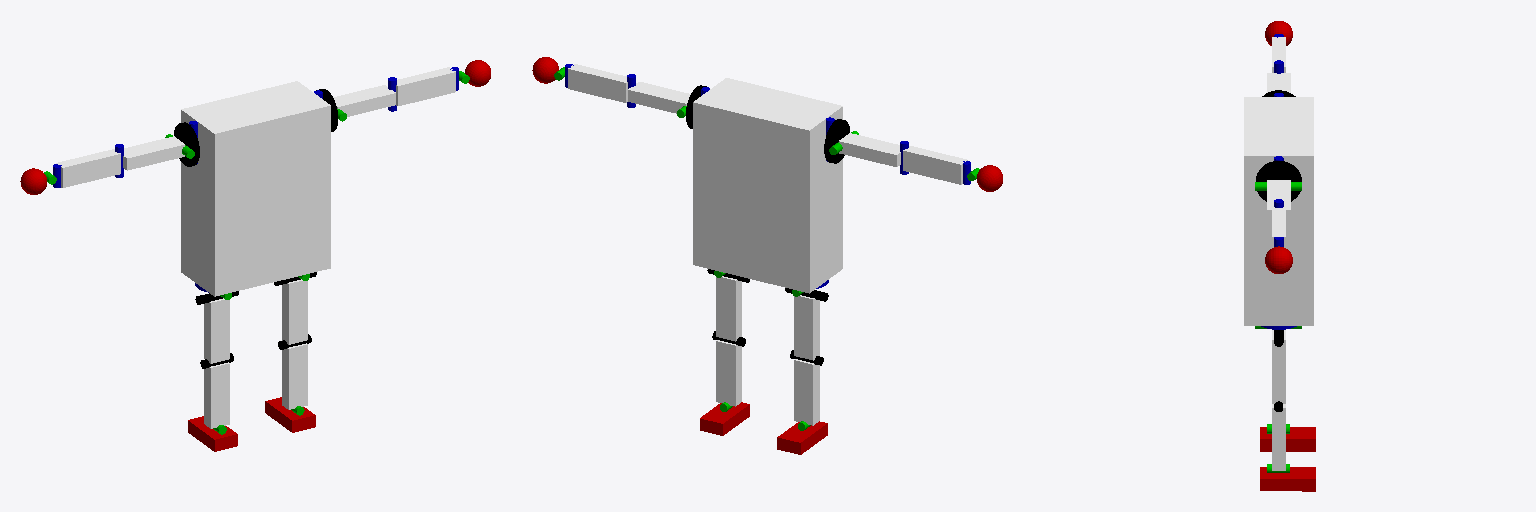
--- What the picture shows (computed from the rendered views, not written in the file) ---
Views: 3 orthographic renders of the robot side by side, from view 1: azimuth 30°, elevation 25°; view 2: azimuth 150°, elevation 25°; view 3: azimuth 270°, elevation 25°.
Model Custom_Upper_Body with 39 links and 38 joints (22 revolute, 16 fixed), rooted at base, posed every joint at zero.
Visible links, largest first — view 1: base, l_forearm, r_lower_leg, l_lower_leg, r_forearm, r_upper_leg, l_upper_leg, l_upper_arm, r_upper_arm, r_foot, l_foot, l_shoulder_roll (+2 smaller); view 2: base, l_forearm, r_lower_leg, l_lower_leg, r_forearm, l_upper_leg, r_upper_leg, l_upper_arm, r_upper_arm, l_foot, r_foot, l_shoulder_roll (+2 smaller); view 3: base, r_foot, l_foot, r_lower_leg, r_shoulder_roll, r_upper_leg, r_upper_arm, r_hand.
Link boxes in pixels (bbox=[...]): base: bbox=[181, 81, 330, 296]; l_forearm: bbox=[56, 149, 120, 187]; r_lower_leg: bbox=[282, 343, 307, 409]; l_lower_leg: bbox=[204, 362, 229, 428]; r_forearm: bbox=[396, 67, 455, 105]; r_upper_leg: bbox=[282, 279, 307, 344]; l_upper_leg: bbox=[204, 298, 229, 363]; l_upper_arm: bbox=[123, 136, 184, 170]; r_upper_arm: bbox=[333, 85, 395, 116]; r_foot: bbox=[265, 397, 315, 432]; l_foot: bbox=[188, 416, 237, 451]; l_shoulder_roll: bbox=[174, 122, 199, 166]; base: bbox=[693, 78, 842, 293]; l_forearm: bbox=[903, 146, 967, 184]; r_lower_leg: bbox=[716, 340, 741, 406]; l_lower_leg: bbox=[794, 359, 819, 425]; r_forearm: bbox=[568, 64, 627, 102]; l_upper_leg: bbox=[794, 295, 819, 360]; r_upper_leg: bbox=[716, 276, 741, 341]; l_upper_arm: bbox=[839, 133, 900, 166]; r_upper_arm: bbox=[628, 82, 690, 113]; l_foot: bbox=[777, 421, 827, 454]; r_foot: bbox=[700, 402, 749, 435]; l_shoulder_roll: bbox=[824, 119, 849, 163]; base: bbox=[1244, 97, 1313, 325]; r_foot: bbox=[1260, 467, 1315, 491]; l_foot: bbox=[1260, 427, 1315, 451]; r_lower_leg: bbox=[1272, 404, 1285, 470]; r_shoulder_roll: bbox=[1256, 161, 1301, 201]; r_upper_leg: bbox=[1272, 330, 1285, 403]; r_upper_arm: bbox=[1267, 180, 1290, 221]; r_hand: bbox=[1265, 246, 1292, 273].
Bounding box of the posed robot: 1.2 × 0.1548 × 0.8001 m (x, y, z).
Geometry: primitives only (box / cylinder / sphere), no mesh files.

robot.urdf — Custom_Upper_Body:
<?xml version="1.0" encoding="utf-8"?>
<robot name="Custom_Upper_Body">


	  <material name="blue">
	    	<color rgba="0 0 0.8 1"/>
	  </material>
	  <material name="black">
	    	<color rgba="0 0 0 1"/>
	  </material>
	  <material name="white">
	    	<color rgba="1 1 1 1"/>
	  </material>
  	<material name="red">
    		<color rgba="0.8 0 0 1"/>
  	</material>
  	<material name="green">
    		<color rgba="0 0.8 0 1"/>
  	</material>
  	
  	
	<link name="base">
		<mass value="0.3"/>
		<inertial>
			<origin xyz="0 0 0" rpy="0 0 0"></origin>
			<mass value="0.3"></mass>
			<inertia ixx="0.000444379589701896" ixy="0" ixz="0" iyy="0.00048561348802354" iyz="0" izz="0.000421911604661064"></inertia>
		</inertial>
		<visual>
			<origin xyz="0 0 0" rpy="0 0 0"></origin>
			<geometry>
				<box size="0.3 0.15 0.4"/>
			</geometry>
			<material name="white"/>
		</visual>
		<collision>
			<origin xyz="0 0 0" rpy="0 0 0"></origin>
			<geometry>
				<box size="0.3 0.15 0.4"/>
			</geometry>
		</collision>
	</link>
	
	<joint name="base_to_r_shoulder_yaw" type="revolute">
	    <parent link="base"/>
	    <child link="r_shoulder_yaw"/>
	    <origin xyz="0.16 0. 0.15" rpy="0 0 0"/>
	    <axis xyz="0 0 1"></axis>
	    <limit effort="3.1" lower="-1.57" upper="1.57" velocity="7.0"></limit>
  	</joint>
	
	<link name="r_shoulder_yaw">
		<inertial>
			<origin xyz="0 0 0" rpy="0 0 0"></origin>
			<mass value="0.1"></mass>
			<inertia ixx="0.000444379589701896" ixy="0" ixz="0" iyy="0.00048561348802354" iyz="0" izz="0.000421911604661064"></inertia>
		</inertial>
		<visual>
			<origin xyz="0 0 0" rpy="0 0 0"></origin>
			<geometry>
				<cylinder length="0.1" radius="0.01"/>
			</geometry>
			<material name="blue"/>
		</visual>
		<collision>
			<origin xyz="0 0 0" rpy="0 0 0"></origin>
			<geometry>
				<cylinder length="0.1" radius="0.01"/>
			</geometry>
		</collision>
	</link>
	
	<joint name="r_shoulder_yaw_to_shoulder_roll" type="revolute">
	    <parent link="r_shoulder_yaw"/>
	    <child link="r_shoulder_roll"/>
	    <origin xyz="0.018 0 0" rpy="0 1.57 0"/>
	    <axis xyz="0 0 1"></axis>
	    <limit effort="3.1" lower="-1.57" upper="1.57" velocity="7.0"></limit>
  	</joint>
	
	<link name="r_shoulder_roll">
		<inertial>
			<origin xyz="0 0 0" rpy="0 0 0"></origin>
			<mass value="0.1"></mass>
			<inertia ixx="0.000444379589701896" ixy="0" ixz="0" iyy="0.00048561348802354" iyz="0" izz="0.000421911604661064"></inertia>
		</inertial>
		<visual>
			<origin xyz="0 0 0" rpy="0 0 0"></origin>
			<geometry>
				<cylinder length="0.01" radius="0.05"/>
			</geometry>
			<material name="black"/>
		</visual>
		<collision>
			<origin xyz="0 0 0" rpy="0 0 0"></origin>
			<geometry>
				<cylinder length="0.01" radius="0.05"/>
			</geometry>
		</collision>
	</link>
	
	<joint name="r_shoulder_roll_to_shoulder_pitch" type="revolute">
	    <parent link="r_shoulder_roll"/>
	    <child link="r_shoulder_pitch"/>
	    <origin xyz="0 0 0.018" rpy="1.57 0 0"/>
	    <axis xyz="0 0 1"></axis>
	    <limit effort="3.1" lower="-1.57" upper="1.57" velocity="7.0"></limit>
  	</joint>
	
	<link name="r_shoulder_pitch">
		<inertial>
			<origin xyz="0 0 0" rpy="0 0 0"></origin>
			<mass value="0.1"></mass>
			<inertia ixx="0.000444379589701896" ixy="0" ixz="0" iyy="0.00048561348802354" iyz="0" izz="0.000421911604661064"></inertia>
		</inertial>
		<visual>
			<origin xyz="0 0 0" rpy="0 0 0"></origin>
			<geometry>
				<cylinder length="0.1" radius="0.01"/>
			</geometry>
			<material name="green"/>
		</visual>
		<collision>
			<origin xyz="0 0 0" rpy="0 0 0"></origin>
			<geometry>
				<cylinder length="0.1" radius="0.01"/>
			</geometry>
		</collision>
	</link>
	
	<joint name="r_shoulder_pitch_to_upper_arm" type="fixed">
	    <parent link="r_shoulder_pitch"/>
	    <child link="r_upper_arm"/>
	    <origin xyz="0 0.075 0" rpy="0 0 0"/>
	    <axis xyz="0 0 1"></axis>
  	</joint>
	
	<link name="r_upper_arm">
		<inertial>
			<origin xyz="0 0 0" rpy="0 0 0"></origin>
			<mass value="0.1"></mass>
			<inertia ixx="0.000444379589701896" ixy="0" ixz="0" iyy="0.00048561348802354" iyz="0" izz="0.000421911604661064"></inertia>
		</inertial>
		<visual>
			<origin xyz="0 0 0" rpy="0 0 0"></origin>
			<geometry>
				<box size="0.03 0.15 0.05"/>
			</geometry>
			<material name="white"/>
		</visual>
		<collision>
			<origin xyz="0 0 0" rpy="0 0 0"></origin>
			<geometry>
				<box size="0.03 0.1 0.05"/>
			</geometry>
		</collision>
	</link>
	
	<joint name="r_upper_arm_to_elbow" type="revolute">
	    <parent link="r_upper_arm"/>
	    <child link="r_elbow"/>
	    <origin xyz="0 0.08 0" rpy="0 -1.57 0"/>
	    <axis xyz="0 0 1"></axis>
	    <limit effort="3.1" lower="-.57" upper="1.57" velocity="7.0"></limit>
  	</joint>
	
	<link name="r_elbow">
		<inertial>
			<origin xyz="0 0 0" rpy="0 0 0"></origin>
			<mass value="0.1"></mass>
			<inertia ixx="0.000444379589701896" ixy="0" ixz="0" iyy="0.00048561348802354" iyz="0" izz="0.000421911604661064"></inertia>
		</inertial>
		<visual>
			<origin xyz="0 0 0" rpy="0 0 0"></origin>
			<geometry>
				<cylinder length="0.075" radius="0.01"/>
			</geometry>
			<material name="blue"/>
		</visual>
		<collision>
			<origin xyz="0 0 0" rpy="0 0 0"></origin>
			<geometry>
				<cylinder length="0.075" radius="0.01"/>
			</geometry>
		</collision>
	</link>
	
	<joint name="r_elbow_to_forearm" type="fixed">
	    <parent link="r_elbow"/>
	    <child link="r_forearm"/>
	    <origin xyz="0 0.08 0" rpy="0 0 0"/>
	    <axis xyz="0 0 1"></axis>
  	</joint>
	
	<link name="r_forearm">
		<inertial>
			<origin xyz="0 0 0" rpy="0 0 0"></origin>
			<mass value="0.1"></mass>
			<inertia ixx="0.000444379589701896" ixy="0" ixz="0" iyy="0.00048561348802354" iyz="0" izz="0.000421911604661064"></inertia>
		</inertial>
		<visual>
			<origin xyz="0 0 0" rpy="0 0 0"></origin>
			<geometry>
				<box size="0.03 0.15 0.05"/>
			</geometry>
			<material name="white"/>
		</visual>
		<collision>
			<origin xyz="0 0 0" rpy="0 0 0"></origin>
			<geometry>
				<box size="0.03 0.15 0.05"/>
			</geometry>
		</collision>
	</link>
	
	<joint name="r_forearm_to_wrist_1" type="revolute">
	    <parent link="r_forearm"/>
	    <child link="r_wrist_1"/>
	    <origin xyz="0 0.08 0" rpy="0 0 0"/>
	    <axis xyz="0 0 1"></axis>
	    <limit effort="3.1" lower="-1.57" upper="1.57" velocity="7.0"></limit>
  	</joint>
	
	<link name="r_wrist_1">
		<inertial>
			<origin xyz="0 0 0" rpy="0 0 0"></origin>
			<mass value="0.1"></mass>
			<inertia ixx="0.000444379589701896" ixy="0" ixz="0" iyy="0.00048561348802354" iyz="0" izz="0.000421911604661064"></inertia>
		</inertial>
		<visual>
			<origin xyz="0 0 0" rpy="0 0 0"></origin>
			<geometry>
				<cylinder length="0.05" radius="0.01"/>
			</geometry>
			<material name="blue"/>
		</visual>
		<collision>
			<origin xyz="0 0 0" rpy="0 0 0"></origin>
			<geometry>
				<cylinder length="0.05" radius="0.01"/>
			</geometry>
		</collision>
	</link>
	
	<joint name="r_wrist_1_to_wrist_2" type="revolute">
	    <parent link="r_wrist_1"/>
	    <child link="r_wrist_2"/>
	    <origin xyz="0 0.02 0" rpy="0 -1.57 0"/>
	    <axis xyz="0 0 1"></axis>
	    <limit effort="3.1" lower="-1.57" upper="1.57" velocity="7.0"></limit>
  	</joint>
	
	<link name="r_wrist_2">
		<inertial>
			<origin xyz="0 0 0" rpy="0 0 0"></origin>
			<mass value="0.1"></mass>
			<inertia ixx="0.000444379589701896" ixy="0" ixz="0" iyy="0.00048561348802354" iyz="0" izz="0.000421911604661064"></inertia>
		</inertial>
		<visual>
			<origin xyz="0 0 0" rpy="0 0 0"></origin>
			<geometry>
				<cylinder length="0.03" radius="0.01"/>
			</geometry>
			<material name="green"/>
		</visual>
		<collision>
			<origin xyz="0 0 0" rpy="0 0 0"></origin>
			<geometry>
				<cylinder length="0.03" radius="0.01"/>
			</geometry>
		</collision>
	</link>
	
	<joint name="r_wrist_2_to_hand" type="fixed">
	    <parent link="r_wrist_2"/>
	    <child link="r_hand"/>
	    <origin xyz="0 0.04 0" rpy="0 0 0"/>
	    <axis xyz="0 0 1"></axis>
  	</joint>
	
	<link name="r_hand">
		<inertial>
			<origin xyz="0 0 0" rpy="0 0 0"></origin>
			<mass value="0.1"></mass>
			<inertia ixx="0.000444379589701896" ixy="0" ixz="0" iyy="0.00048561348802354" iyz="0" izz="0.000421911604661064"></inertia>
		</inertial>
		<visual>
			<origin xyz="0 0 0" rpy="0 0 0"></origin>
			<geometry>
				<sphere radius="0.03"/>
			</geometry>
			<material name="red"/>
		</visual>
		<collision>
			<origin xyz="0 0 0" rpy="0 0 0"></origin>
			<geometry>
				<sphere radius="0.03"/>
			</geometry>
		</collision>
	</link>
	
	<joint name="r_end_effector" type="fixed">
	    <parent link="r_hand"/>
	    <child link="r_ee_link"/>
	    <origin xyz="0 0 0" rpy="0 0 0"/>
	    <axis xyz="0 0 1"></axis>
  	</joint>
  	
  	<link name="r_ee_link">
        <inertial>
          <mass value="0.001" />
          <inertia ixx="0.0001" iyy="0.0001" izz="0.0001" ixy="0" ixz="0" iyz="0" />
        </inertial>
      </link>
      
      
      
      
      
      
      <joint name="base_to_l_shoulder_yaw" type="revolute">
	    <parent link="base"/>
	    <child link="l_shoulder_yaw"/>
	    <origin xyz="-0.16 0. 0.15" rpy="0 0 0"/>
	    <axis xyz="0 0 -1"></axis>
	    <limit effort="3.1" lower="-1.57" upper="1.57" velocity="7.0"></limit>
  	</joint>
	
	<link name="l_shoulder_yaw">
		<inertial>
			<origin xyz="0 0 0" rpy="0 0 0"></origin>
			<mass value="0.1"></mass>
			<inertia ixx="0.000444379589701896" ixy="0" ixz="0" iyy="0.00048561348802354" iyz="0" izz="0.000421911604661064"></inertia>
		</inertial>
		<visual>
			<origin xyz="0 0 0" rpy="0 0 0"></origin>
			<geometry>
				<cylinder length="0.1" radius="0.01"/>
			</geometry>
			<material name="blue"/>
		</visual>
		<collision>
			<origin xyz="0 0 0" rpy="0 0 0"></origin>
			<geometry>
				<cylinder length="0.1" radius="0.01"/>
			</geometry>
		</collision>
	</link>
	
	<joint name="l_shoulder_yaw_to_shoulder_roll" type="revolute">
	    <parent link="l_shoulder_yaw"/>
	    <child link="l_shoulder_roll"/>
	    <origin xyz="-0.018 0 0" rpy="0 -1.57 0"/>
	    <axis xyz="0 0 -1"></axis>
	    <limit effort="3.1" lower="-1.57" upper="1.57" velocity="7.0"></limit>
  	</joint>
	
	<link name="l_shoulder_roll">
		<inertial>
			<origin xyz="0 0 0" rpy="0 0 0"></origin>
			<mass value="0.1"></mass>
			<inertia ixx="0.000444379589701896" ixy="0" ixz="0" iyy="0.00048561348802354" iyz="0" izz="0.000421911604661064"></inertia>
		</inertial>
		<visual>
			<origin xyz="0 0 0" rpy="0 0 0"></origin>
			<geometry>
				<cylinder length="0.01" radius="0.05"/>
			</geometry>
			<material name="black"/>
		</visual>
		<collision>
			<origin xyz="0 0 0" rpy="0 0 0"></origin>
			<geometry>
				<cylinder length="0.01" radius="0.05"/>
			</geometry>
		</collision>
	</link>
	
	<joint name="l_shoulder_roll_to_shoulder_pitch" type="revolute">
	    <parent link="l_shoulder_roll"/>
	    <child link="l_shoulder_pitch"/>
	    <origin xyz="0 0 0.018" rpy="1.57 0 0"/>
	    <axis xyz="0 0 -1"></axis>
	    <limit effort="3.1" lower="-1.57" upper="1.57" velocity="7.0"></limit>
  	</joint>
	
	<link name="l_shoulder_pitch">
		<inertial>
			<origin xyz="0 0 0" rpy="0 0 0"></origin>
			<mass value="0.1"></mass>
			<inertia ixx="0.000444379589701896" ixy="0" ixz="0" iyy="0.00048561348802354" iyz="0" izz="0.000421911604661064"></inertia>
		</inertial>
		<visual>
			<origin xyz="0 0 0" rpy="0 0 0"></origin>
			<geometry>
				<cylinder length="0.1" radius="0.01"/>
			</geometry>
			<material name="green"/>
		</visual>
		<collision>
			<origin xyz="0 0 0" rpy="0 0 0"></origin>
			<geometry>
				<cylinder length="0.1" radius="0.01"/>
			</geometry>
		</collision>
	</link>
	
	<joint name="l_shoulder_pitch_to_upper_arm" type="fixed">
	    <parent link="l_shoulder_pitch"/>
	    <child link="l_upper_arm"/>
	    <origin xyz="0 0.075 0" rpy="0 0 0"/>
	    <axis xyz="0 0 1"></axis>
  	</joint>
	
	<link name="l_upper_arm">
		<inertial>
			<origin xyz="0 0 0" rpy="0 0 0"></origin>
			<mass value="0.1"></mass>
			<inertia ixx="0.000444379589701896" ixy="0" ixz="0" iyy="0.00048561348802354" iyz="0" izz="0.000421911604661064"></inertia>
		</inertial>
		<visual>
			<origin xyz="0 0 0" rpy="0 0 0"></origin>
			<geometry>
				<box size="0.03 0.15 0.05"/>
			</geometry>
			<material name="white"/>
		</visual>
		<collision>
			<origin xyz="0 0 0" rpy="0 0 0"></origin>
			<geometry>
				<box size="0.03 0.1 0.05"/>
			</geometry>
		</collision>
	</link>
	
	<joint name="l_upper_arm_to_elbow" type="revolute">
	    <parent link="l_upper_arm"/>
	    <child link="l_elbow"/>
	    <origin xyz="0 0.08 0" rpy="0 1.57 0"/>
	    <axis xyz="0 0 -1"></axis>
	    <limit effort="3.1" lower="-1.57" upper="1.57" velocity="7.0"></limit>
  	</joint>
	
	<link name="l_elbow">
		<inertial>
			<origin xyz="0 0 0" rpy="0 0 0"></origin>
			<mass value="0.1"></mass>
			<inertia ixx="0.000444379589701896" ixy="0" ixz="0" iyy="0.00048561348802354" iyz="0" izz="0.000421911604661064"></inertia>
		</inertial>
		<visual>
			<origin xyz="0 0 0" rpy="0 0 0"></origin>
			<geometry>
				<cylinder length="0.075" radius="0.01"/>
			</geometry>
			<material name="blue"/>
		</visual>
		<collision>
			<origin xyz="0 0 0" rpy="0 0 0"></origin>
			<geometry>
				<cylinder length="0.075" radius="0.01"/>
			</geometry>
		</collision>
	</link>
	
	<joint name="l_elbow_to_forearm" type="fixed">
	    <parent link="l_elbow"/>
	    <child link="l_forearm"/>
	    <origin xyz="0 0.08 0" rpy="0 0 0"/>
	    <axis xyz="0 0 1"></axis>
  	</joint>
	
	<link name="l_forearm">
		<inertial>
			<origin xyz="0 0 0" rpy="0 0 0"></origin>
			<mass value="0.1"></mass>
			<inertia ixx="0.000444379589701896" ixy="0" ixz="0" iyy="0.00048561348802354" iyz="0" izz="0.000421911604661064"></inertia>
		</inertial>
		<visual>
			<origin xyz="0 0 0" rpy="0 0 0"></origin>
			<geometry>
				<box size="0.03 0.15 0.05"/>
			</geometry>
			<material name="white"/>
		</visual>
		<collision>
			<origin xyz="0 0 0" rpy="0 0 0"></origin>
			<geometry>
				<box size="0.03 0.1 0.05"/>
			</geometry>
		</collision>
	</link>
	
	<joint name="l_forearm_to_wrist_1" type="revolute">
	    <parent link="l_forearm"/>
	    <child link="l_wrist_1"/>
	    <origin xyz="0 0.08 0" rpy="0 0 0"/>
	    <axis xyz="0 0 -1"></axis>
	    <limit effort="3.1" lower="-1.57" upper="1.57" velocity="7.0"></limit>
  	</joint>
	
	<link name="l_wrist_1">
		<inertial>
			<origin xyz="0 0 0" rpy="0 0 0"></origin>
			<mass value="0.1"></mass>
			<inertia ixx="0.000444379589701896" ixy="0" ixz="0" iyy="0.00048561348802354" iyz="0" izz="0.000421911604661064"></inertia>
		</inertial>
		<visual>
			<origin xyz="0 0 0" rpy="0 0 0"></origin>
			<geometry>
				<cylinder length="0.05" radius="0.01"/>
			</geometry>
			<material name="blue"/>
		</visual>
		<collision>
			<origin xyz="0 0 0" rpy="0 0 0"></origin>
			<geometry>
				<cylinder length="0.05" radius="0.01"/>
			</geometry>
		</collision>
	</link>
	
	<joint name="l_wrist_1_to_wrist_2" type="revolute">
	    <parent link="l_wrist_1"/>
	    <child link="l_wrist_2"/>
	    <origin xyz="0 0.02 0" rpy="0 -1.57 0"/>
	    <axis xyz="0 0 1"></axis>
	    <limit effort="3.1" lower="-1.57" upper="1.57" velocity="7.0"></limit>
  	</joint>
	
	<link name="l_wrist_2">
		<inertial>
			<origin xyz="0 0 0" rpy="0 0 0"></origin>
			<mass value="0.1"></mass>
			<inertia ixx="0.000444379589701896" ixy="0" ixz="0" iyy="0.00048561348802354" iyz="0" izz="0.000421911604661064"></inertia>
		</inertial>
		<visual>
			<origin xyz="0 0 0" rpy="0 0 0"></origin>
			<geometry>
				<cylinder length="0.03" radius="0.01"/>
			</geometry>
			<material name="green"/>
		</visual>
		<collision>
			<origin xyz="0 0 0" rpy="0 0 0"></origin>
			<geometry>
				<cylinder length="0.03" radius="0.01"/>
			</geometry>
		</collision>
	</link>
	
	<joint name="l_wrist_2_to_hand" type="fixed">
	    <parent link="l_wrist_2"/>
	    <child link="l_hand"/>
	    <origin xyz="0 0.04 0" rpy="0 0 0"/>
	    <axis xyz="0 0 1"></axis>
  	</joint>
	
	<link name="l_hand">
		<inertial>
			<origin xyz="0 0 0" rpy="0 0 0"></origin>
			<mass value="0.1"></mass>
			<inertia ixx="0.000444379589701896" ixy="0" ixz="0" iyy="0.00048561348802354" iyz="0" izz="0.000421911604661064"></inertia>
		</inertial>
		<visual>
			<origin xyz="0 0 0" rpy="0 0 0"></origin>
			<geometry>
				<sphere radius="0.03"/>
			</geometry>
			<material name="red"/>
		</visual>
		<collision>
			<origin xyz="0 0 0" rpy="0 0 0"></origin>
			<geometry>
				<sphere radius="0.03"/>
			</geometry>
		</collision>
	</link>
	
	<joint name="l_end_effector" type="fixed">
	    <parent link="l_hand"/>
	    <child link="l_ee_link"/>
	    <origin xyz="0 0 0" rpy="0 0 0"/>
	    <axis xyz="0 0 1"></axis>
  	</joint>
  	
  	<link name="l_ee_link">
        <inertial>
          <mass value="0.001" />
          <inertia ixx="0.0001" iyy="0.0001" izz="0.0001" ixy="0" ixz="0" iyz="0" />
        </inertial>
      </link>


	<joint name="z_base_to_r_hip_yaw" type="revolute">
	    <parent link="base"/>
	    <child link="r_hip_yaw"/>
	    <origin xyz="0.1 0. -0.205" rpy="0 0 0"/>
	    <axis xyz="0 0 -1"></axis>
	    <limit effort="3.1" lower="-1.57" upper="1.57" velocity="7.0"></limit>
  	</joint>
	
	<link name="r_hip_yaw">
		<inertial>
			<origin xyz="0 0 0" rpy="0 0 0"></origin>
			<mass value="0.1"></mass>
			<inertia ixx="0.000444379589701896" ixy="0" ixz="0" iyy="0.00048561348802354" iyz="0" izz="0.000421911604661064"></inertia>
		</inertial>
		<visual>
			<origin xyz="0 0 0" rpy="0 0 0"></origin>
			<geometry>
				<cylinder length="0.01" radius="0.05"/>
			</geometry>
			<material name="blue"/>
		</visual>
		<collision>
			<origin xyz="0 0 0" rpy="0 0 0"></origin>
			<geometry>
				<cylinder length="0.1" radius="0.01"/>
			</geometry>
		</collision>
	</link>
	
	<joint name="r_hip_yaw_to_pitch" type="revolute">
	    <parent link="r_hip_yaw"/>
	    <child link="r_hip_pitch"/>
	    <origin xyz="0. 0. -0.015" rpy="1.57 0 0"/>
	    <axis xyz="0 0 1"></axis>
	    <limit effort="3.1" lower="-1.57" upper="1.57" velocity="7.0"></limit>
  	</joint>
	
	<link name="r_hip_pitch">
		<inertial>
			<origin xyz="0 0 0" rpy="0 0 0"></origin>
			<mass value="0.1"></mass>
			<inertia ixx="0.000444379589701896" ixy="0" ixz="0" iyy="0.00048561348802354" iyz="0" izz="0.000421911604661064"></inertia>
		</inertial>
		<visual>
			<origin xyz="0 0 0" rpy="0 0 0"></origin>
			<geometry>
				<cylinder length="0.1" radius="0.01"/>
			</geometry>
			<material name="green"/>
		</visual>
		<collision>
			<origin xyz="0 0 0" rpy="0 0 0"></origin>
			<geometry>
				<cylinder length="0.1" radius="0.01"/>
			</geometry>
		</collision>
	</link>
	
	<joint name="r_hip_pitch_to_roll" type="revolute">
	    <parent link="r_hip_pitch"/>
	    <child link="r_hip_roll"/>
	    <origin xyz="0. -0.02 0." rpy="0 1.57 0"/>
	    <axis xyz="0 0 1"></axis>
	    <limit effort="3.1" lower="-1.57" upper="1.57" velocity="7.0"></limit>
  	</joint>
	
	<link name="r_hip_roll">
		<inertial>
			<origin xyz="0 0 0" rpy="0 0 0"></origin>
			<mass value="0.1"></mass>
			<inertia ixx="0.000444379589701896" ixy="0" ixz="0" iyy="0.00048561348802354" iyz="0" izz="0.000421911604661064"></inertia>
		</inertial>
		<visual>
			<origin xyz="0 0 0" rpy="0 0 0"></origin>
			<geometry>
				<cylinder length="0.1" radius="0.01"/>
			</geometry>
			<material name="black"/>
		</visual>
		<collision>
			<origin xyz="0 0 0" rpy="0 0 0"></origin>
			<geometry>
				<cylinder length="0.1" radius="0.01"/>
			</geometry>
		</collision>
	</link>
	
	<joint name="r_hip_roll_to_upper_leg" type="fixed">
	    <parent link="r_hip_roll"/>
	    <child link="r_upper_leg"/>
	    <origin xyz="0 -0.08 0" rpy="0 0 0"/>
	    <axis xyz="0 0 1"></axis>
  	</joint>
	
	<link name="r_upper_leg">
		<inertial>
			<origin xyz="0 0 0" rpy="0 0 0"></origin>
			<mass value="0.1"></mass>
			<inertia ixx="0.000444379589701896" ixy="0" ixz="0" iyy="0.00048561348802354" iyz="0" izz="0.000421911604661064"></inertia>
		</inertial>
		<visual>
			<origin xyz="0 0 0" rpy="0 0 0"></origin>
			<geometry>
				<box size="0.03 0.15 0.05"/>
			</geometry>
			<material name="white"/>
		</visual>
		<collision>
			<origin xyz="0 0 0" rpy="0 0 0"></origin>
			<geometry>
				<box size="0.03 0.1 0.05"/>
			</geometry>
		</collision>
	</link>
	
	
	<joint name="r_upper_leg_to_knee" type="revolute">
	    <parent link="r_upper_leg"/>
	    <child link="r_knee"/>
	    <origin xyz="0 -0.08 0" rpy="0 0 0"/>
	    <axis xyz="0 0 -1"></axis>
	    <limit effort="3.1" lower="-.57" upper="1.57" velocity="7.0"></limit>
  	</joint>
	
	<link name="r_knee">
		<inertial>
			<origin xyz="0 0 0" rpy="0 0 0"></origin>
			<mass value="0.1"></mass>
			<inertia ixx="0.000444379589701896" ixy="0" ixz="0" iyy="0.00048561348802354" iyz="0" izz="0.000421911604661064"></inertia>
		</inertial>
		<visual>
			<origin xyz="0 0 0" rpy="0 0 0"></origin>
			<geometry>
				<cylinder length="0.075" radius="0.01"/>
			</geometry>
			<material name="black"/>
		</visual>
		<collision>
			<origin xyz="0 0 0" rpy="0 0 0"></origin>
			<geometry>
				<cylinder length="0.075" radius="0.01"/>
			</geometry>
		</collision>
	</link>
	
	<joint name="r_knee_to_lower_leg" type="fixed">
	    <parent link="r_knee"/>
	    <child link="r_lower_leg"/>
	    <origin xyz="0 -0.08 0" rpy="0 0 0"/>
	    <axis xyz="0 0 1"></axis>
  	</joint>
	
	<link name="r_lower_leg">
		<inertial>
			<origin xyz="0 0 0" rpy="0 0 0"></origin>
			<mass value="0.1"></mass>
			<inertia ixx="0.000444379589701896" ixy="0" ixz="0" iyy="0.00048561348802354" iyz="0" izz="0.000421911604661064"></inertia>
		</inertial>
		<visual>
			<origin xyz="0 0 0" rpy="0 0 0"></origin>
			<geometry>
				<box size="0.03 0.15 0.05"/>
			</geometry>
			<material name="white"/>
		</visual>
		<collision>
			<origin xyz="0 0 0" rpy="0 0 0"></origin>
			<geometry>
				<box size="0.03 0.1 0.05"/>
			</geometry>
		</collision>
	</link>
	
	<joint name="r_lower_leg_to_ankle" type="revolute">
	    <parent link="r_lower_leg"/>
	    <child link="r_ankle"/>
	    <origin xyz="0 -0.08 0" rpy="0 1.57 0"/>
	    <axis xyz="0 0 -1"></axis>
	    <limit effort="3.1" lower="-.57" upper="1.57" velocity="7.0"></limit>
  	</joint>
	
	<link name="r_ankle">
		<inertial>
			<origin xyz="0 0 0" rpy="0 0 0"></origin>
			<mass value="0.1"></mass>
			<inertia ixx="0.000444379589701896" ixy="0" ixz="0" iyy="0.00048561348802354" iyz="0" izz="0.000421911604661064"></inertia>
		</inertial>
		<visual>
			<origin xyz="0 0 0" rpy="0 0 0"></origin>
			<geometry>
				<cylinder length="0.05" radius="0.01"/>
			</geometry>
			<material name="green"/>
		</visual>
		<collision>
			<origin xyz="0 0 0" rpy="0 0 0"></origin>
			<geometry>
				<cylinder length="0.05" radius="0.01"/>
			</geometry>
		</collision>
	</link>
	
	
	<joint name="r_ankle_to_foot" type="fixed">
	    <parent link="r_ankle"/>
	    <child link="r_foot"/>
	    <origin xyz="0 -0.025 0.02" rpy="0 0 0"/>
	    <axis xyz="0 0 1"></axis>
  	</joint>
	
	<link name="r_foot">
		<inertial>
			<origin xyz="0 0 0" rpy="0 0 0"></origin>
			<mass value="0.1"></mass>
			<inertia ixx="0.000444379589701896" ixy="0" ixz="0" iyy="0.00048561348802354" iyz="0" izz="0.000421911604661064"></inertia>
		</inertial>
		<visual>
			<origin xyz="0 0 0" rpy="0 0 0"></origin>
			<geometry>
				<box size="0.06 0.03 0.12"/>
			</geometry>
			<material name="red"/>
		</visual>
		<collision>
			<origin xyz="0 0 0" rpy="0 0 0"></origin>
			<geometry>
				<box size="0.06 0.03 0.1"/>
			</geometry>
		</collision>
	</link>
	
	<joint name="r_foot_end_effector" type="fixed">
	    <parent link="r_foot"/>
	    <child link="r_foot_ee_link"/>
	    <origin xyz="0 0 0" rpy="0 0 0"/>
	    <axis xyz="0 0 1"></axis>
  	</joint>
  	
  	<link name="r_foot_ee_link">
        <inertial>
          <mass value="0.001" />
          <inertia ixx="0.0001" iyy="0.0001" izz="0.0001" ixy="0" ixz="0" iyz="0" />
        </inertial>
      </link>
	
	
	
	<joint name="z_base_to_l_hip_yaw" type="revolute">
	    <parent link="base"/>
	    <child link="l_hip_yaw"/>
	    <origin xyz="-0.1 0. -0.205" rpy="0 0 0"/>
	    <axis xyz="0 0 1"></axis>
	    <limit effort="3.1" lower="-1.57" upper="1.57" velocity="7.0"></limit>
  	</joint>
	
	<link name="l_hip_yaw">
		<inertial>
			<origin xyz="0 0 0" rpy="0 0 0"></origin>
			<mass value="0.1"></mass>
			<inertia ixx="0.000444379589701896" ixy="0" ixz="0" iyy="0.00048561348802354" iyz="0" izz="0.000421911604661064"></inertia>
		</inertial>
		<visual>
			<origin xyz="0 0 0" rpy="0 0 0"></origin>
			<geometry>
				<cylinder length="0.01" radius="0.05"/>
			</geometry>
			<material name="blue"/>
		</visual>
		<collision>
			<origin xyz="0 0 0" rpy="0 0 0"></origin>
			<geometry>
				<cylinder length="0.1" radius="0.01"/>
			</geometry>
		</collision>
	</link>
	
	<joint name="l_hip_yaw_to_pitch" type="revolute">
	    <parent link="l_hip_yaw"/>
	    <child link="l_hip_pitch"/>
	    <origin xyz="0. 0. -0.015" rpy="1.57 0 0"/>
	    <axis xyz="0 0 -1"></axis>
	    <limit effort="3.1" lower="-1.57" upper="1.57" velocity="7.0"></limit>
  	</joint>
	
	<link name="l_hip_pitch">
		<inertial>
			<origin xyz="0 0 0" rpy="0 0 0"></origin>
			<mass value="0.1"></mass>
			<inertia ixx="0.000444379589701896" ixy="0" ixz="0" iyy="0.00048561348802354" iyz="0" izz="0.000421911604661064"></inertia>
		</inertial>
		<visual>
			<origin xyz="0 0 0" rpy="0 0 0"></origin>
			<geometry>
				<cylinder length="0.1" radius="0.01"/>
			</geometry>
			<material name="green"/>
		</visual>
		<collision>
			<origin xyz="0 0 0" rpy="0 0 0"></origin>
			<geometry>
				<cylinder length="0.1" radius="0.01"/>
			</geometry>
		</collision>
	</link>
	
	<joint name="l_hip_pitch_to_roll" type="revolute">
	    <parent link="l_hip_pitch"/>
	    <child link="l_hip_roll"/>
	    <origin xyz="0. -0.02 0." rpy="0 1.57 0"/>
	    <axis xyz="0 0 1"></axis>
	    <limit effort="3.1" lower="-1.57" upper="1.57" velocity="7.0"></limit>
  	</joint>
	
	<link name="l_hip_roll">
		<inertial>
			<origin xyz="0 0 0" rpy="0 0 0"></origin>
			<mass value="0.1"></mass>
			<inertia ixx="0.000444379589701896" ixy="0" ixz="0" iyy="0.00048561348802354" iyz="0" izz="0.000421911604661064"></inertia>
		</inertial>
		<visual>
			<origin xyz="0 0 0" rpy="0 0 0"></origin>
			<geometry>
				<cylinder length="0.1" radius="0.01"/>
			</geometry>
			<material name="black"/>
		</visual>
		<collision>
			<origin xyz="0 0 0" rpy="0 0 0"></origin>
			<geometry>
				<cylinder length="0.1" radius="0.01"/>
			</geometry>
		</collision>
	</link>
	
	<joint name="l_hip_roll_to_upper_leg" type="fixed">
	    <parent link="l_hip_roll"/>
	    <child link="l_upper_leg"/>
	    <origin xyz="0 -0.08 0" rpy="0 0 0"/>
	    <axis xyz="0 0 1"></axis>
  	</joint>
	
	<link name="l_upper_leg">
		<inertial>
			<origin xyz="0 0 0" rpy="0 0 0"></origin>
			<mass value="0.1"></mass>
			<inertia ixx="0.000444379589701896" ixy="0" ixz="0" iyy="0.00048561348802354" iyz="0" izz="0.000421911604661064"></inertia>
		</inertial>
		<visual>
			<origin xyz="0 0 0" rpy="0 0 0"></origin>
			<geometry>
				<box size="0.03 0.15 0.05"/>
			</geometry>
			<material name="white"/>
		</visual>
		<collision>
			<origin xyz="0 0 0" rpy="0 0 0"></origin>
			<geometry>
				<box size="0.03 0.1 0.05"/>
			</geometry>
		</collision>
	</link>
	
	
	<joint name="l_upper_leg_to_knee" type="revolute">
	    <parent link="l_upper_leg"/>
	    <child link="l_knee"/>
	    <origin xyz="0 -0.08 0" rpy="0 0 0"/>
	    <axis xyz="0 0 -1"></axis>
	    <limit effort="3.1" lower="-.57" upper="1.57" velocity="7.0"></limit>
  	</joint>
	
	<link name="l_knee">
		<inertial>
			<origin xyz="0 0 0" rpy="0 0 0"></origin>
			<mass value="0.1"></mass>
			<inertia ixx="0.000444379589701896" ixy="0" ixz="0" iyy="0.00048561348802354" iyz="0" izz="0.000421911604661064"></inertia>
		</inertial>
		<visual>
			<origin xyz="0 0 0" rpy="0 0 0"></origin>
			<geometry>
				<cylinder length="0.075" radius="0.01"/>
			</geometry>
			<material name="black"/>
		</visual>
		<collision>
			<origin xyz="0 0 0" rpy="0 0 0"></origin>
			<geometry>
				<cylinder length="0.075" radius="0.01"/>
			</geometry>
		</collision>
	</link>
	
	<joint name="l_knee_to_lower_leg" type="fixed">
	    <parent link="l_knee"/>
	    <child link="l_lower_leg"/>
	    <origin xyz="0 -0.08 0" rpy="0 0 0"/>
	    <axis xyz="0 0 1"></axis>
  	</joint>
	
	<link name="l_lower_leg">
		<inertial>
			<origin xyz="0 0 0" rpy="0 0 0"></origin>
			<mass value="0.1"></mass>
			<inertia ixx="0.000444379589701896" ixy="0" ixz="0" iyy="0.00048561348802354" iyz="0" izz="0.000421911604661064"></inertia>
		</inertial>
		<visual>
			<origin xyz="0 0 0" rpy="0 0 0"></origin>
			<geometry>
				<box size="0.03 0.15 0.05"/>
			</geometry>
			<material name="white"/>
		</visual>
		<collision>
			<origin xyz="0 0 0" rpy="0 0 0"></origin>
			<geometry>
				<box size="0.03 0.1 0.05"/>
			</geometry>
		</collision>
	</link>
	
	<joint name="l_lower_leg_to_ankle" type="revolute">
	    <parent link="l_lower_leg"/>
	    <child link="l_ankle"/>
	    <origin xyz="0 -0.08 0" rpy="0 1.57 0"/>
	    <axis xyz="0 0 1"></axis>
	    <limit effort="3.1" lower="-.57" upper="1.57" velocity="7.0"></limit>
  	</joint>
	
	<link name="l_ankle">
		<inertial>
			<origin xyz="0 0 0" rpy="0 0 0"></origin>
			<mass value="0.1"></mass>
			<inertia ixx="0.000444379589701896" ixy="0" ixz="0" iyy="0.00048561348802354" iyz="0" izz="0.000421911604661064"></inertia>
		</inertial>
		<visual>
			<origin xyz="0 0 0" rpy="0 0 0"></origin>
			<geometry>
				<cylinder length="0.05" radius="0.01"/>
			</geometry>
			<material name="green"/>
		</visual>
		<collision>
			<origin xyz="0 0 0" rpy="0 0 0"></origin>
			<geometry>
				<cylinder length="0.05" radius="0.01"/>
			</geometry>
		</collision>
	</link>
	
	
	<joint name="l_ankle_to_foot" type="fixed">
	    <parent link="l_ankle"/>
	    <child link="l_foot"/>
	    <origin xyz="0 -0.025 0.02" rpy="0 0 0"/>
	    <axis xyz="0 0 1"></axis>
  	</joint>
	
	<link name="l_foot">
		<inertial>
			<origin xyz="0 0 0" rpy="0 0 0"></origin>
			<mass value="0.1"></mass>
			<inertia ixx="0.000444379589701896" ixy="0" ixz="0" iyy="0.00048561348802354" iyz="0" izz="0.000421911604661064"></inertia>
		</inertial>
		<visual>
			<origin xyz="0 0 0" rpy="0 0 0"></origin>
			<geometry>
				<box size="0.06 0.03 0.12"/>
			</geometry>
			<material name="red"/>
		</visual>
		<collision>
			<origin xyz="0 0 0" rpy="0 0 0"></origin>
			<geometry>
				<box size="0.06 0.03 0.1"/>
			</geometry>
		</collision>
	</link>
	
	<joint name="l_foot_end_effector" type="fixed">
	    <parent link="l_foot"/>
	    <child link="l_foot_ee_link"/>
	    <origin xyz="0 0 0" rpy="0 0 0"/>
	    <axis xyz="0 0 1"></axis>
  	</joint>
  	
  	<link name="l_foot_ee_link">
        <inertial>
          <mass value="0.001" />
          <inertia ixx="0.0001" iyy="0.0001" izz="0.0001" ixy="0" ixz="0" iyz="0" />
        </inertial>
      </link>
	
	
</robot>
